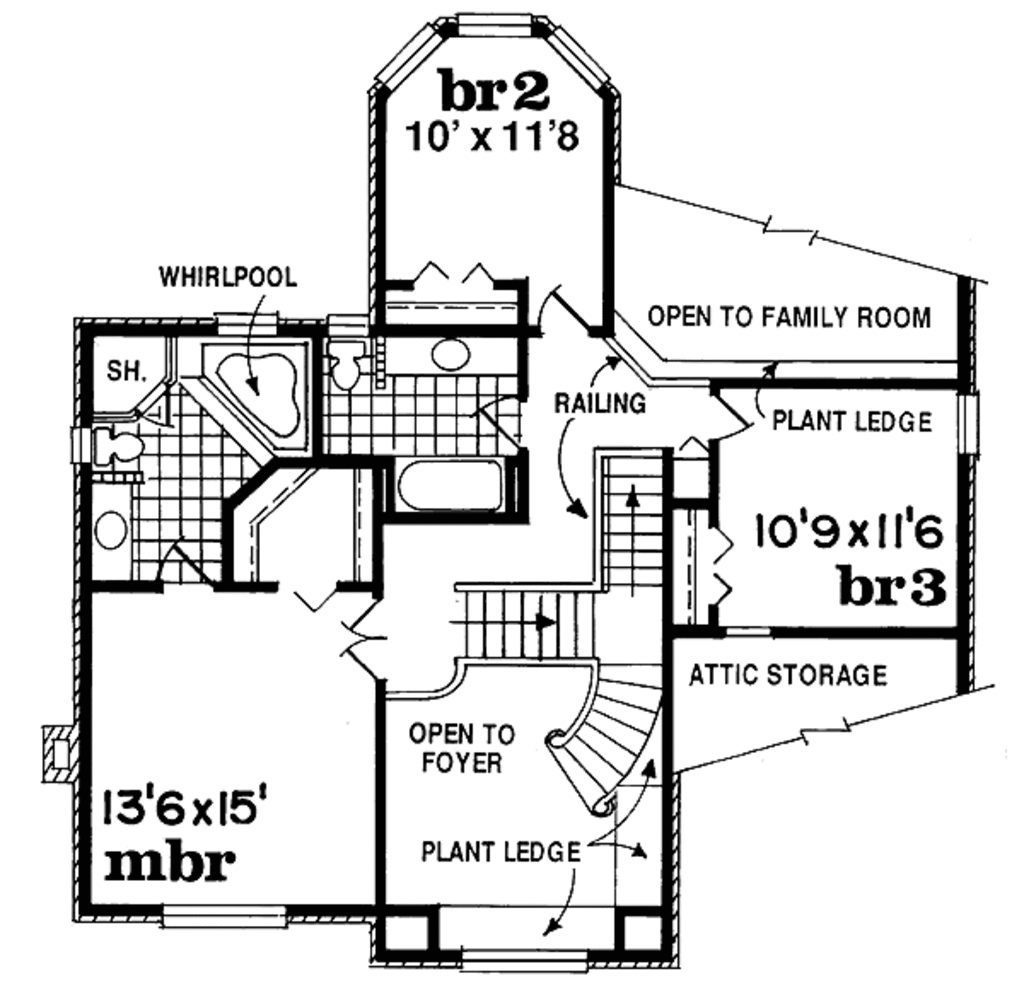door: (346, 592, 385, 682), (711, 390, 761, 443)
large_sink: (318, 329, 370, 393), (85, 421, 151, 465)
small_sink: (386, 337, 528, 376), (87, 481, 135, 580)
stairs: (448, 448, 660, 826)
tub: (177, 341, 310, 460), (387, 454, 513, 521)
windows: (158, 901, 291, 929), (445, 6, 538, 43), (448, 948, 587, 970), (950, 384, 982, 464)
